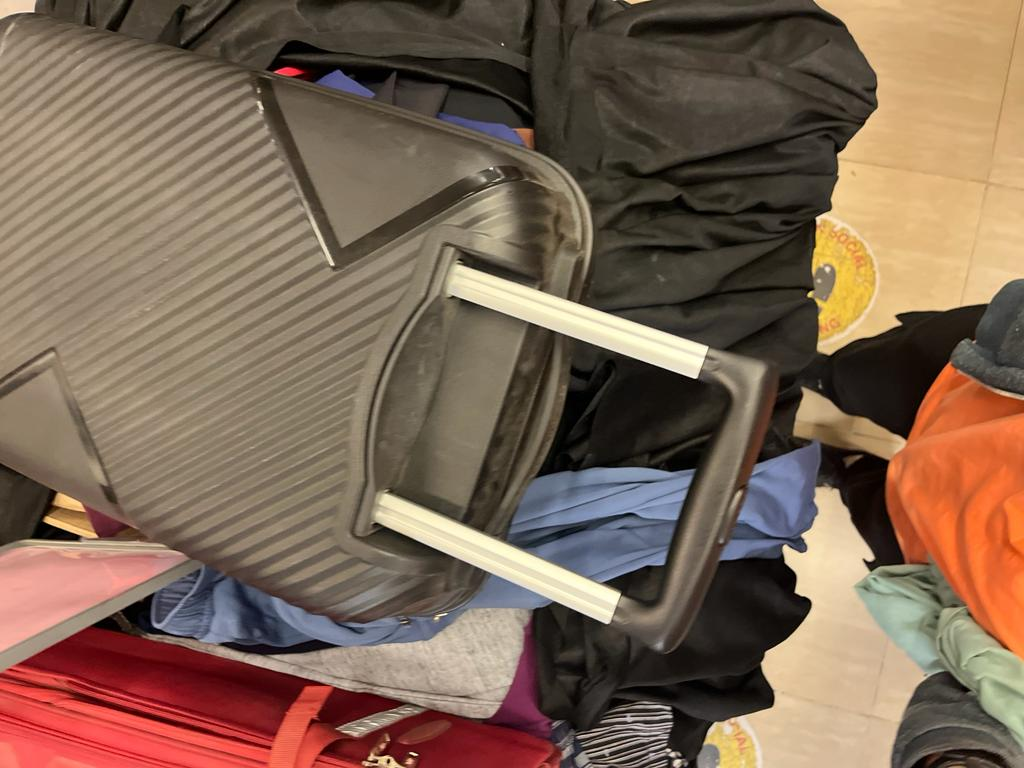Bag: (2, 4, 803, 703)
Handle: (354, 240, 790, 663)
